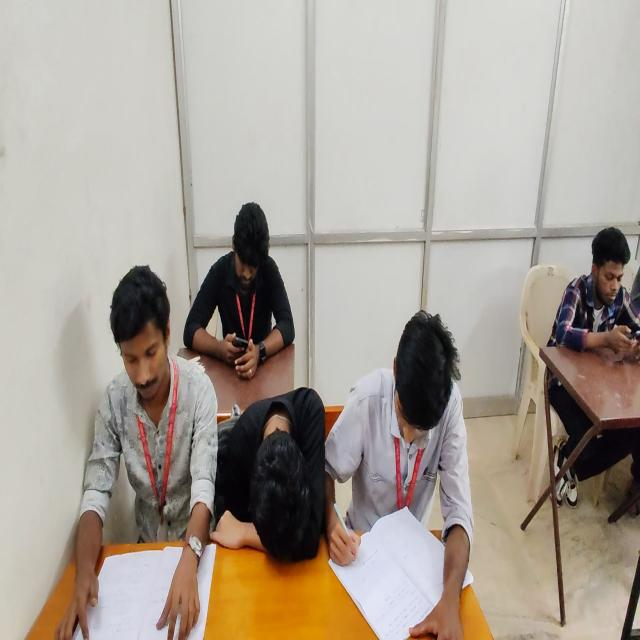reading: (58, 265, 220, 640)
sleeping: (208, 382, 326, 574)
using_mobile: (543, 223, 639, 510), (182, 200, 295, 381)
writing: (332, 307, 477, 640)
